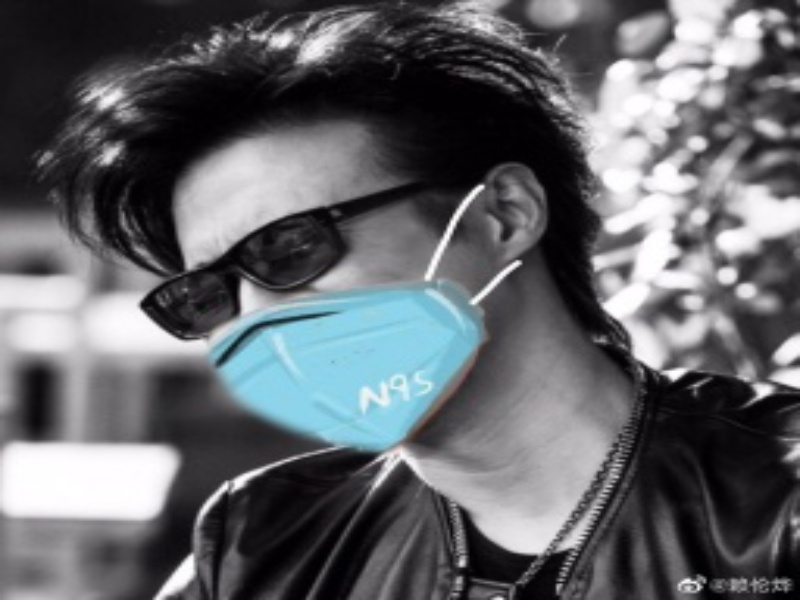ManaoArotava: (109, 44, 561, 488)
